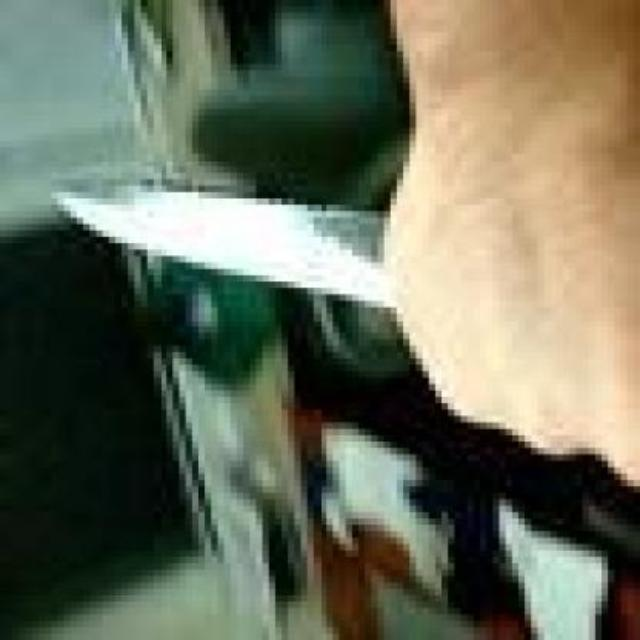Knife: (51, 188, 391, 310)
